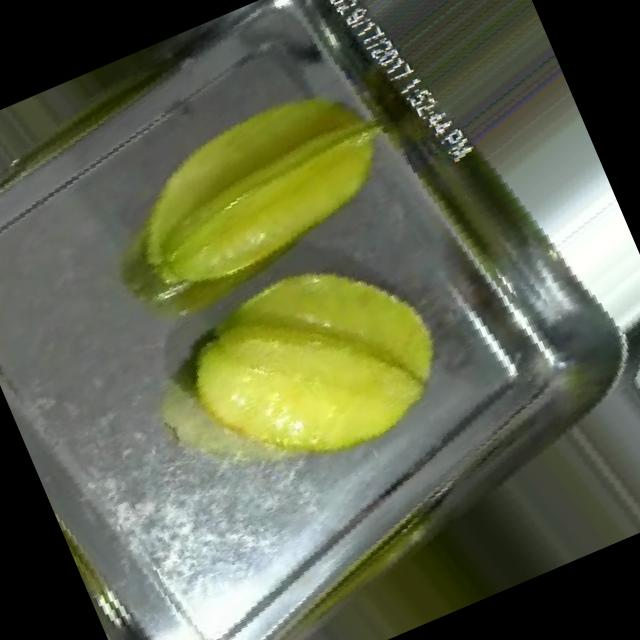fruit: (122, 188, 502, 543), (66, 17, 452, 360), (309, 0, 593, 220)
